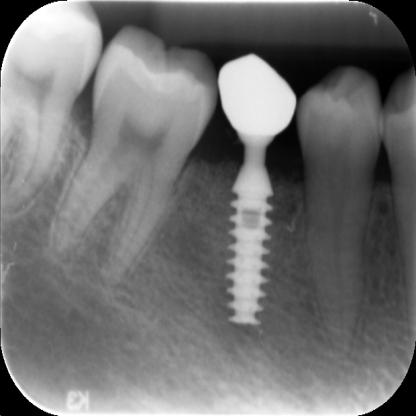Bicon: (220, 182, 279, 327)
